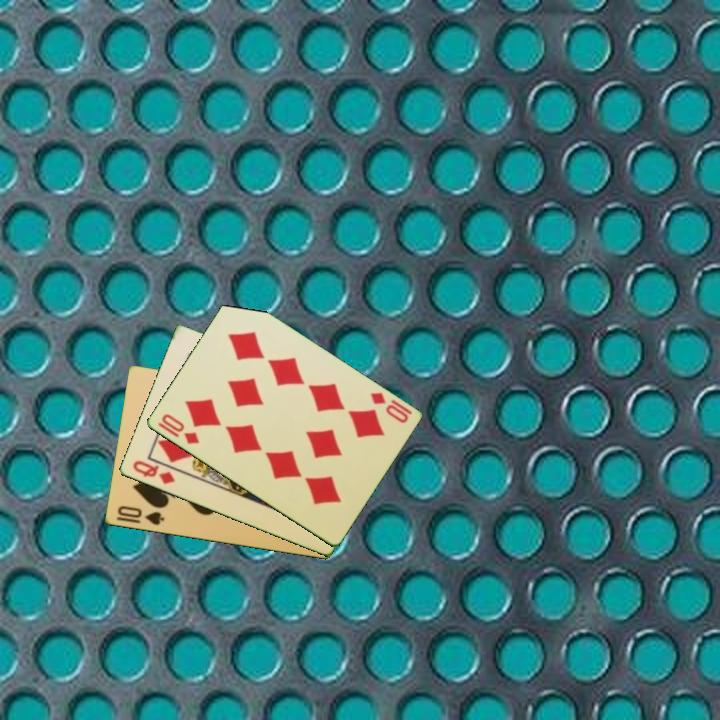10d: (366, 389, 415, 426), (157, 410, 202, 447)
10s: (114, 502, 167, 528)
Qd: (129, 457, 178, 487)
